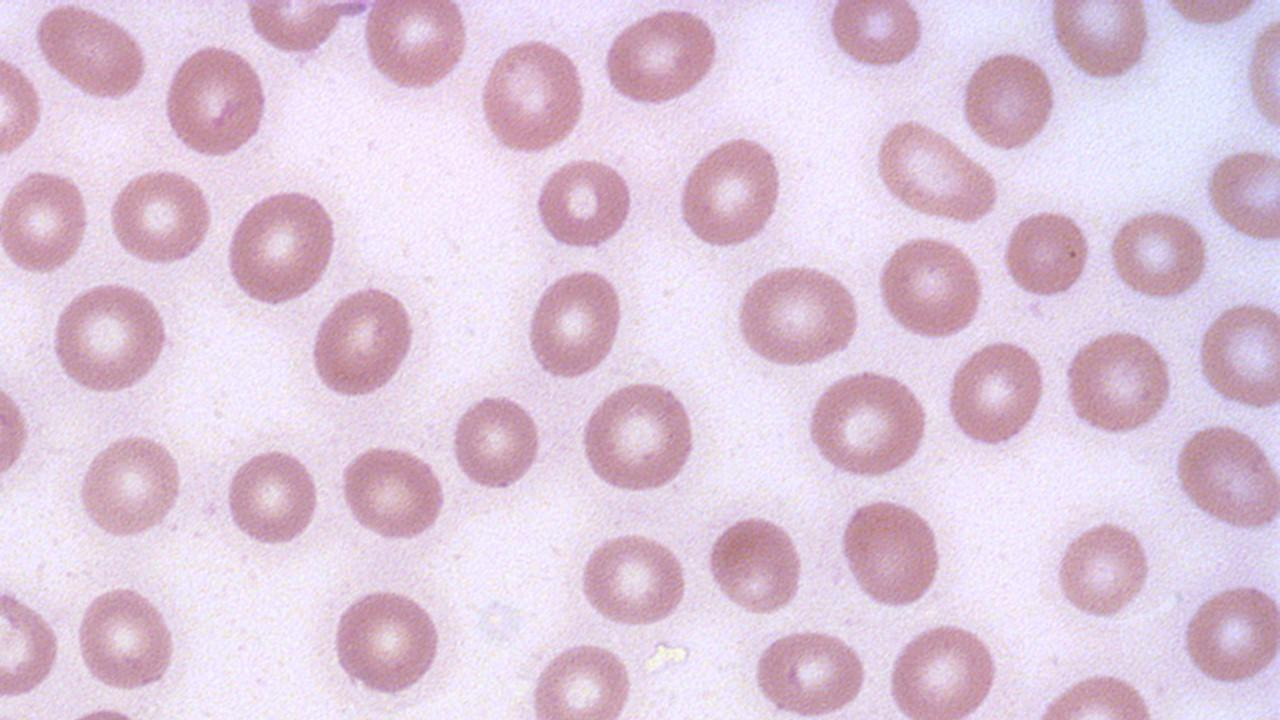RBC: (802, 366, 932, 482), (732, 260, 864, 370), (577, 378, 700, 496), (222, 186, 340, 309), (48, 279, 172, 396), (870, 118, 1002, 225), (476, 34, 590, 157), (159, 41, 272, 162), (833, 494, 948, 612), (328, 583, 445, 697), (676, 132, 787, 252), (308, 282, 418, 402), (74, 428, 187, 542), (1062, 326, 1176, 438), (599, 7, 725, 108), (874, 231, 987, 343), (522, 264, 628, 382), (71, 582, 182, 694), (884, 618, 1006, 718), (942, 336, 1048, 450), (1171, 420, 1280, 530), (574, 529, 692, 630), (30, 4, 152, 100), (335, 443, 448, 544), (106, 165, 216, 268), (751, 624, 871, 717), (702, 512, 808, 617), (958, 46, 1058, 156), (1052, 518, 1156, 622), (222, 443, 322, 551), (359, 1, 472, 96), (1104, 203, 1212, 302), (1180, 580, 1280, 686), (447, 391, 546, 494), (0, 167, 91, 278), (532, 155, 636, 252), (1195, 298, 1279, 412), (999, 205, 1093, 301), (1047, 2, 1153, 84), (528, 638, 638, 714), (1204, 142, 1280, 244), (0, 580, 64, 701), (822, 0, 926, 72), (1029, 668, 1161, 718), (1, 46, 48, 164), (244, 1, 344, 56), (1242, 8, 1280, 142), (1, 364, 33, 501)
